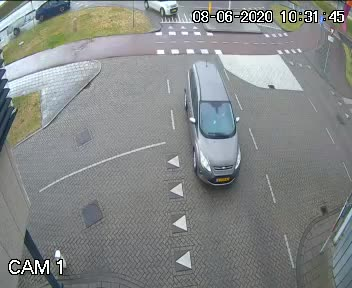car: (172, 54, 247, 197), (5, 11, 39, 40), (138, 0, 184, 19), (36, 0, 78, 17)
